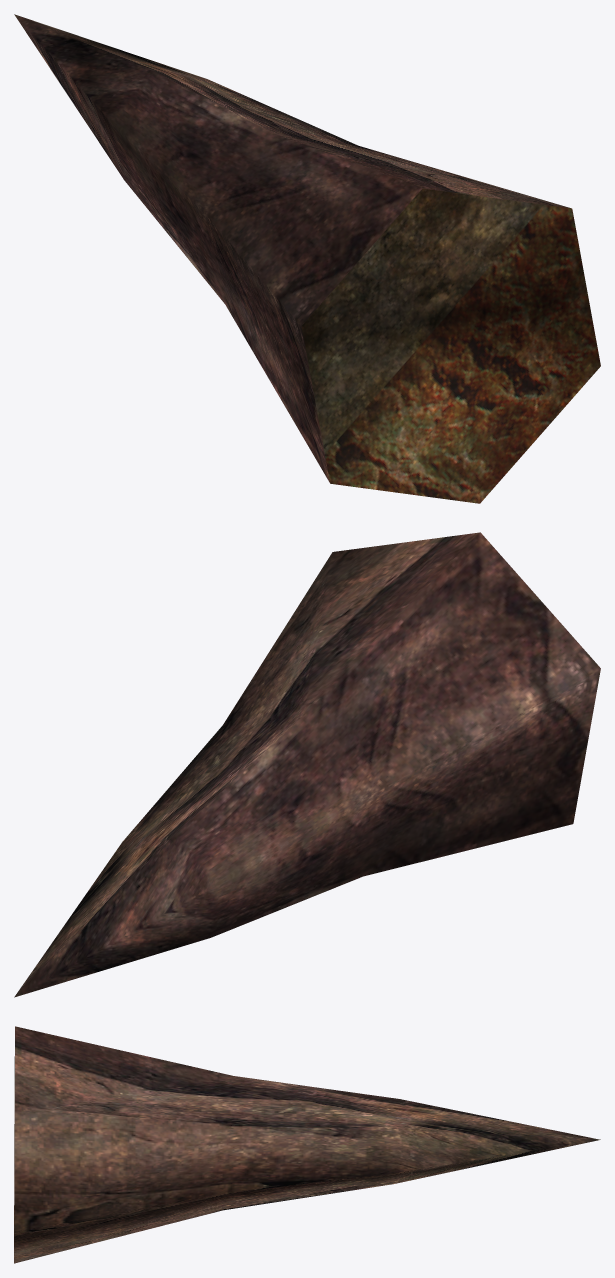
The model's file is stalactite_05.obj.
3 renders of one model, top to bottom at view 1: azimuth 30°, elevation 25°; view 2: azimuth 150°, elevation 25°; view 3: azimuth 270°, elevation 25°, orthographic. The views are drawn at different scales.
Visible parts, largest first — view 1: (null); view 2: (null); view 3: (null).
Boxes of the visible parts, x1,y1,x2,y2 form: (null): (14,14,600,503); (null): (14,532,600,997); (null): (14,1026,600,1263).
Size of the model in its own units: 3.05 by 3.2 by 7.78.
